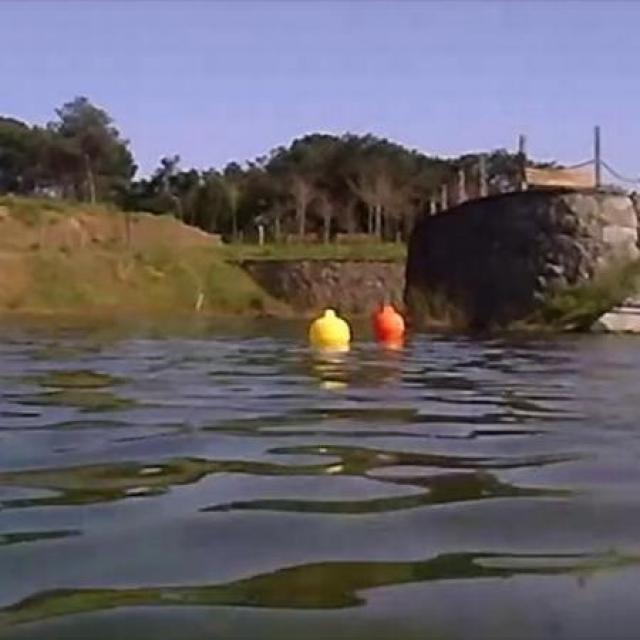buoy: (310, 308, 351, 349), (372, 307, 406, 339)
